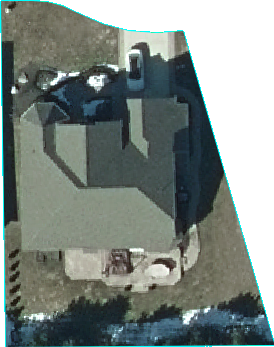house: (17, 94, 203, 255)
